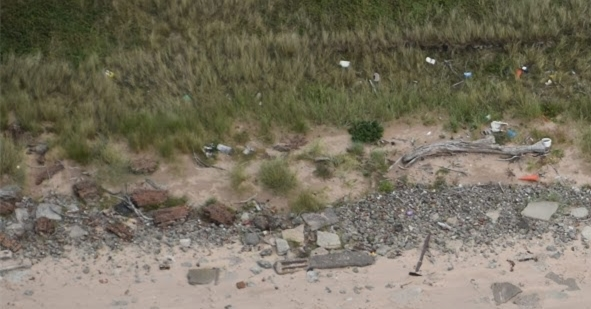cuboid: (179, 253, 231, 296)
scattered_barrel: (1, 154, 242, 259), (330, 38, 563, 98), (473, 103, 523, 141)
straight_bar: (268, 247, 384, 278), (409, 229, 436, 280)
white_in_green: (507, 153, 559, 202)
